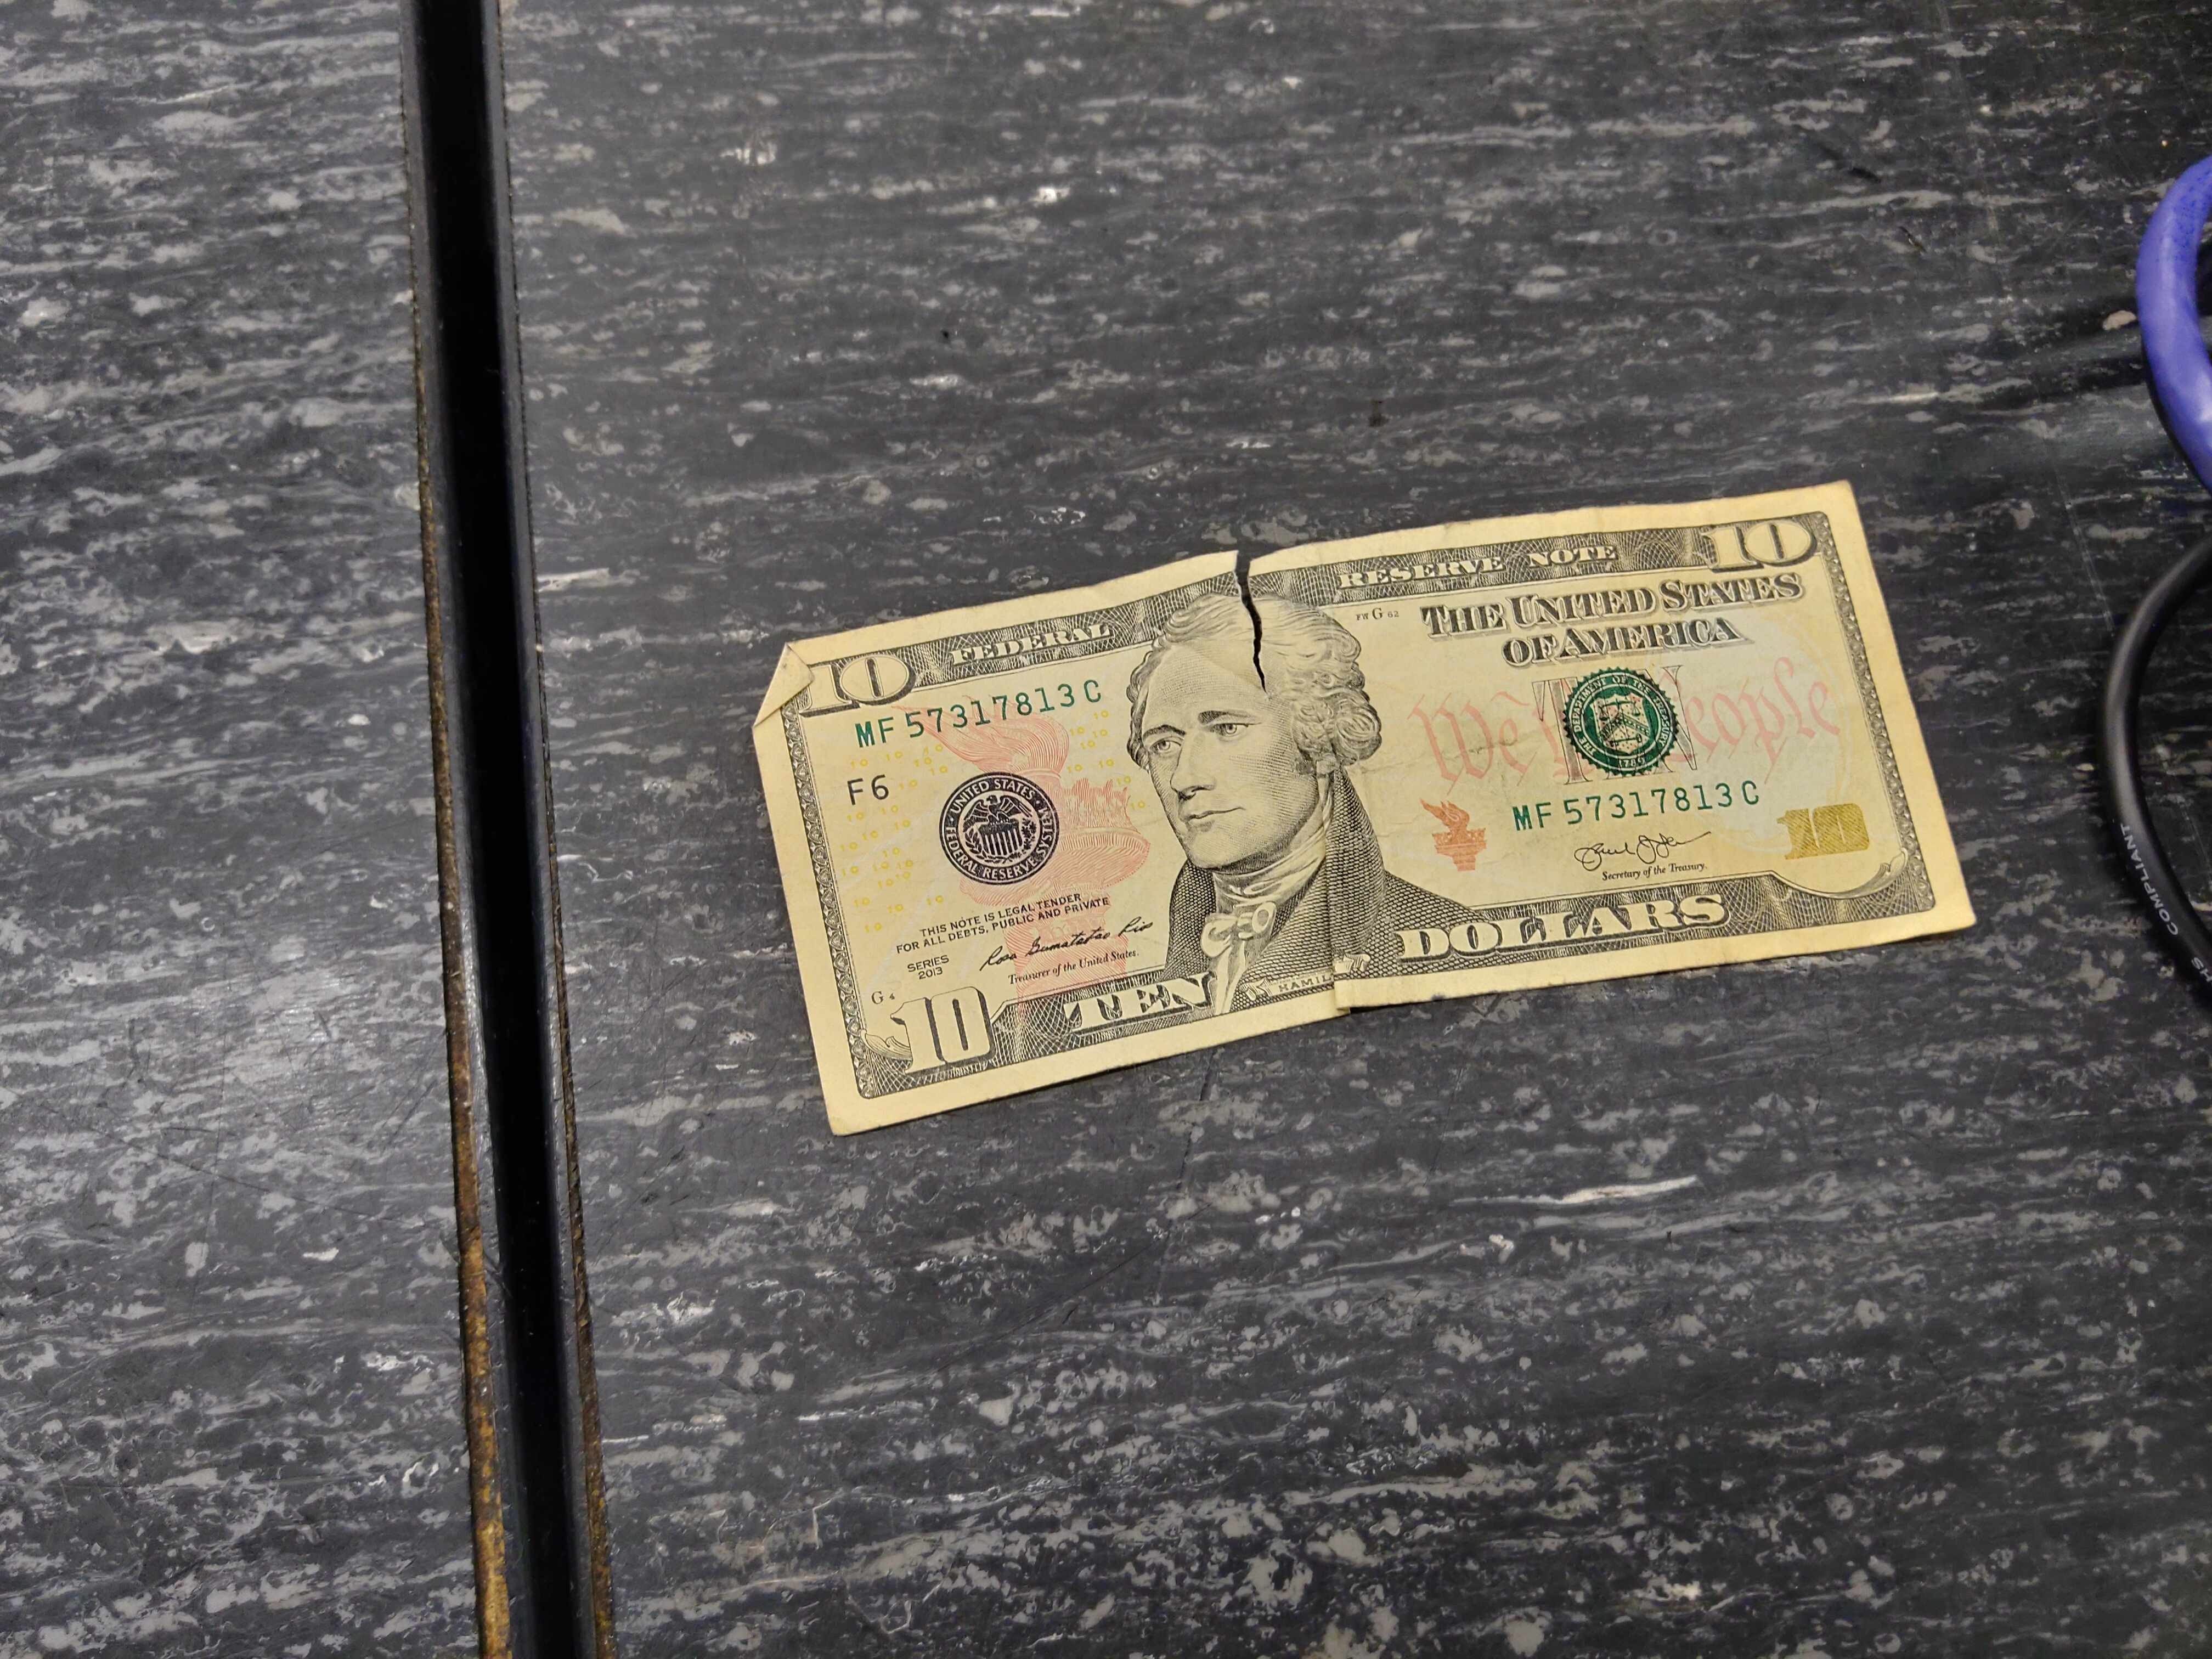TenBill: (745, 474, 1984, 1134)
